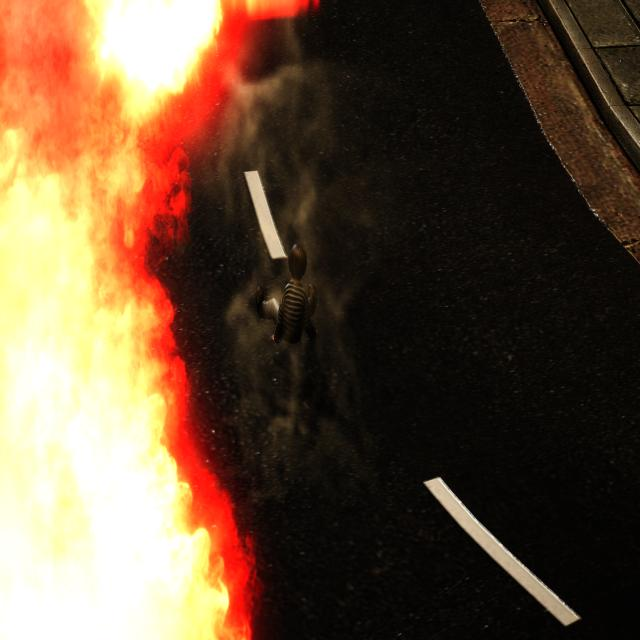Human: (253, 233, 323, 354)
